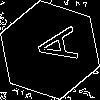A: (25, 25, 79, 67)
